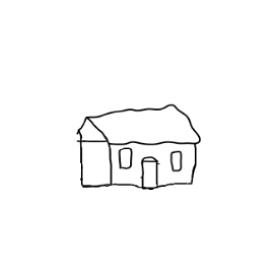door: (137, 154, 162, 192)
open_window: (115, 146, 134, 174), (167, 149, 186, 174)
roof: (69, 101, 204, 148)
small_house: (2, 2, 260, 260)
wall: (106, 136, 201, 192)
